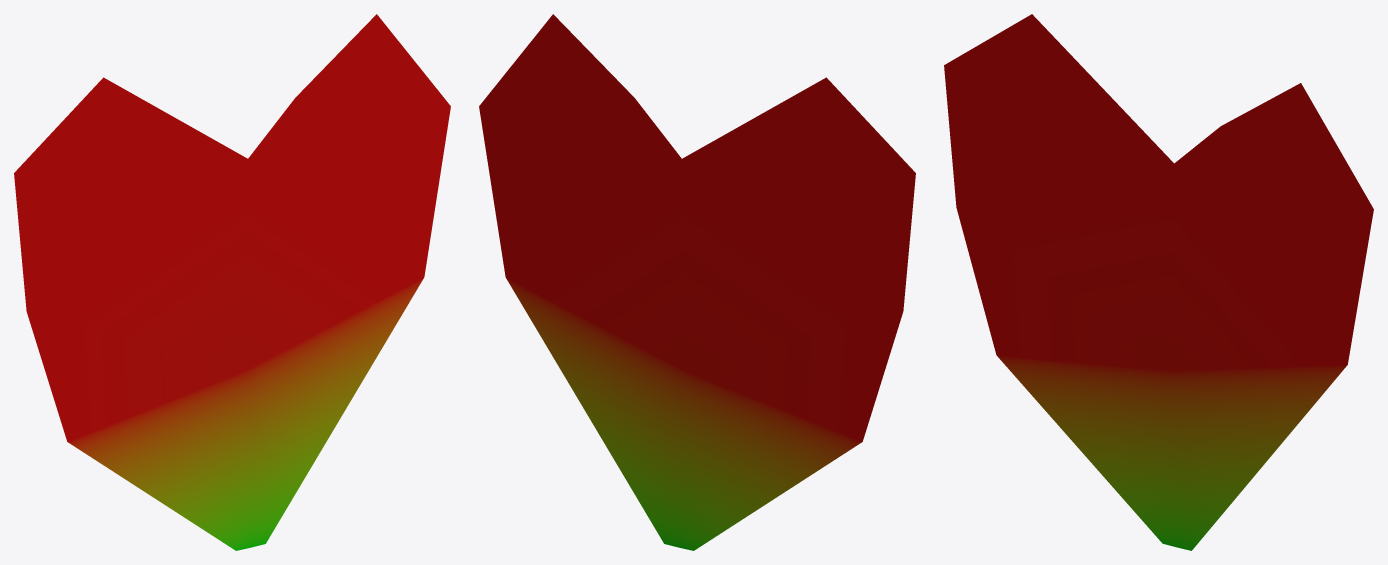
The model's file is Black Locust_LOD4_Var11.fbx.
3 renders of one model, left to right at view 1: azimuth 30°, elevation 25°; view 2: azimuth 150°, elevation 25°; view 3: azimuth 330°, elevation 25°, orthographic.
Parts seen in each view (by area): view 1: _cbpr_Var11_LOD4; view 2: _cbpr_Var11_LOD4; view 3: _cbpr_Var11_LOD4.
Boxes of the visible parts, bbox=[...] form: _cbpr_Var11_LOD4: bbox=[14, 14, 450, 550]; _cbpr_Var11_LOD4: bbox=[479, 14, 915, 550]; _cbpr_Var11_LOD4: bbox=[944, 14, 1373, 550].
Size of the model in its own units: 111 by 123 by 7.28e-11.
